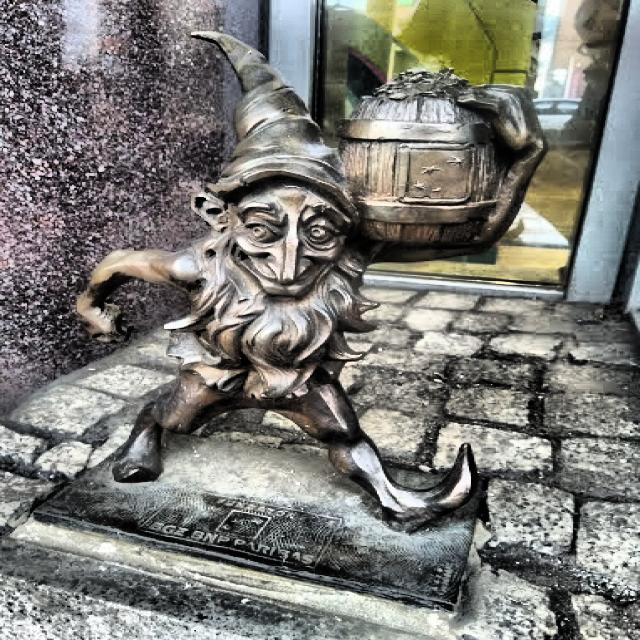Leprykonus: (55, 22, 565, 540)
